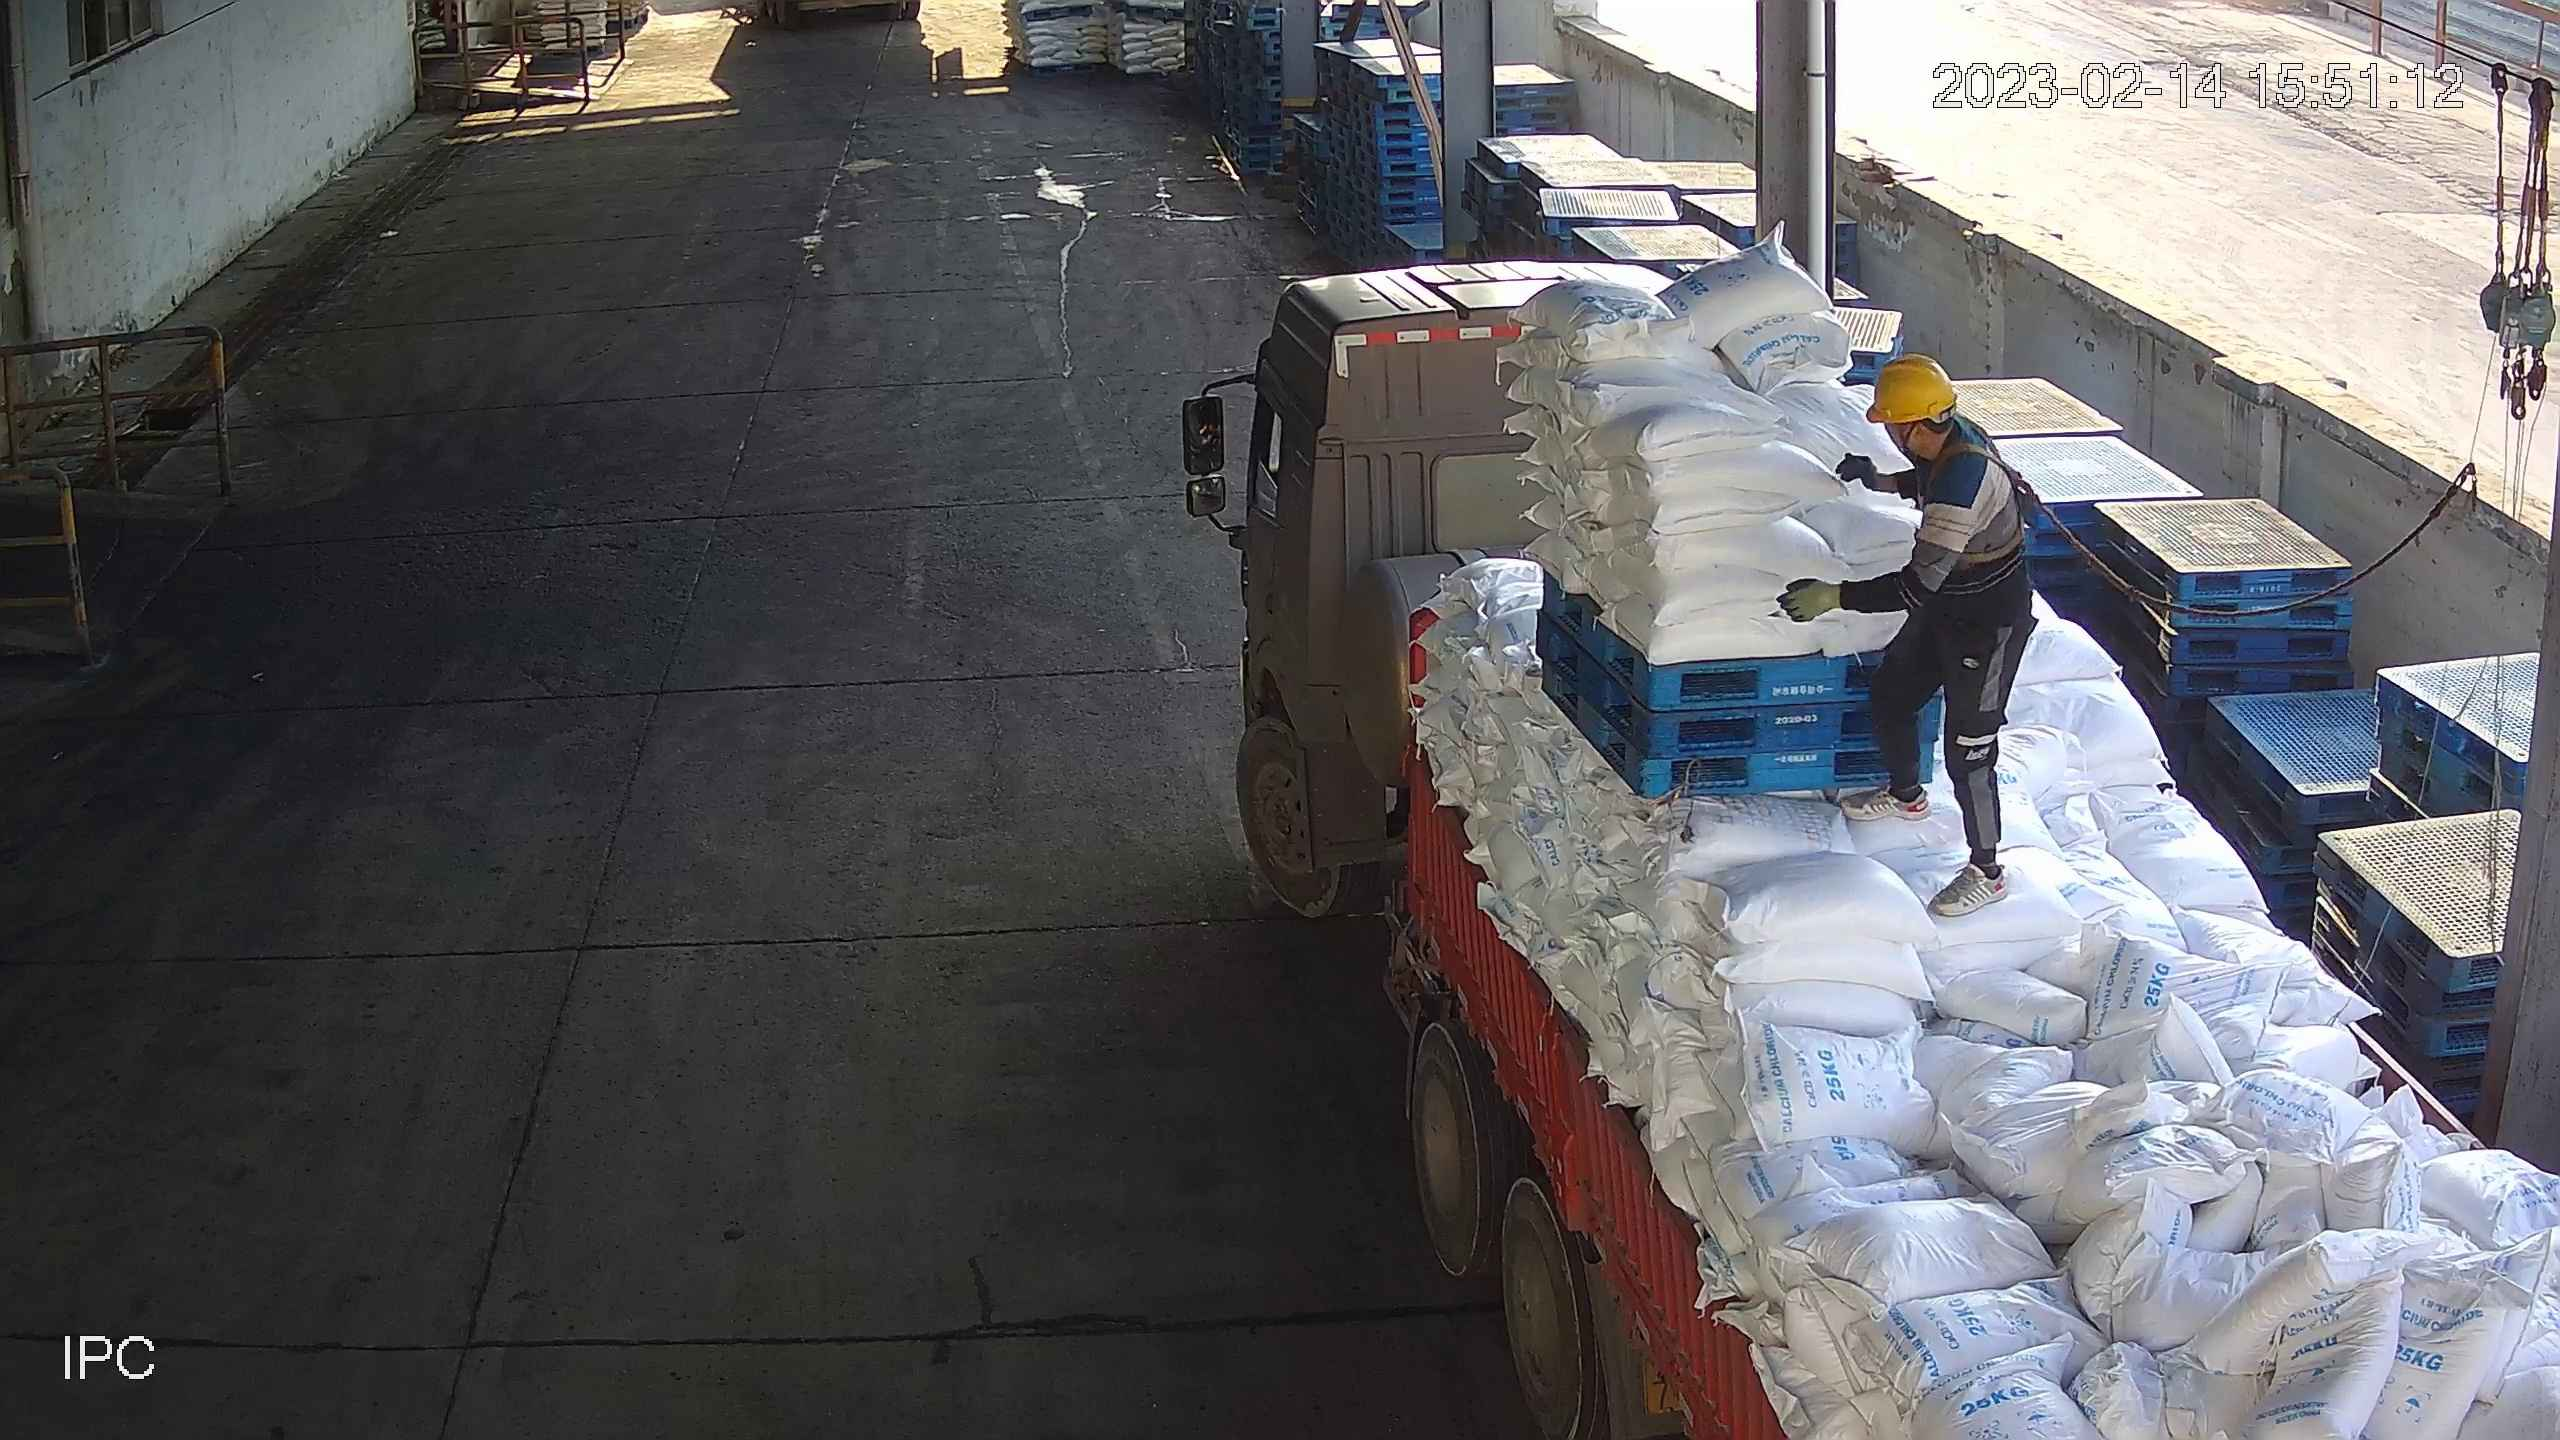belt: (1917, 416, 2047, 566)
head: (1842, 352, 2024, 509)
helmet: (1864, 352, 1959, 426)
people: (1769, 357, 2042, 916)
truck: (1229, 259, 2560, 1440)
